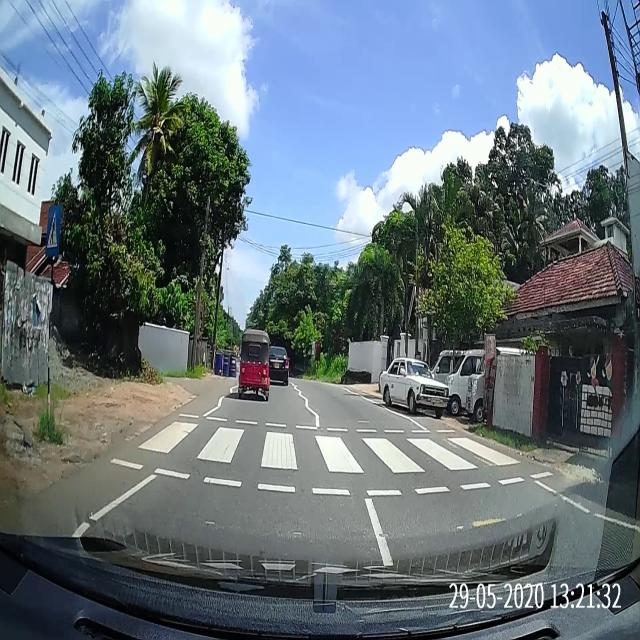Crosswalk: (100, 410, 567, 501)
